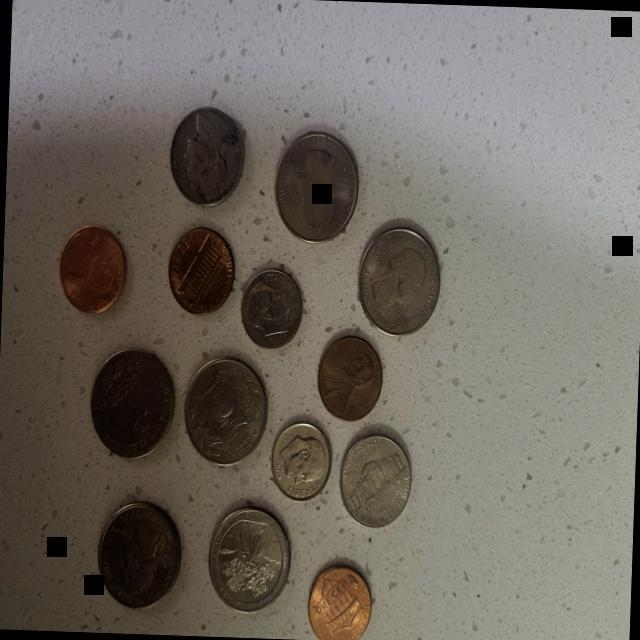Dime: (237, 258, 308, 352), (266, 410, 334, 502)
Nickel: (166, 96, 250, 210), (336, 428, 416, 532)
Penny: (54, 220, 130, 316), (164, 220, 238, 316), (311, 332, 384, 422), (302, 554, 377, 640)
Quarter: (268, 120, 362, 246), (180, 350, 272, 472), (202, 496, 295, 615), (87, 342, 180, 460), (352, 220, 444, 337), (93, 498, 185, 610)
